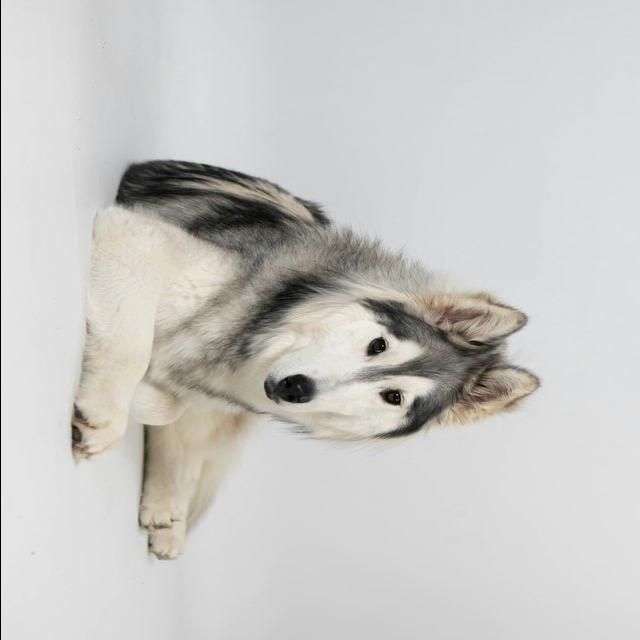husky: (70, 158, 542, 561)
